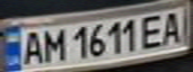1: (66, 24, 90, 61), (121, 16, 142, 53), (106, 19, 127, 55)
6: (87, 20, 109, 57)
A: (157, 9, 187, 46), (18, 28, 45, 66)
E: (136, 11, 169, 51)
M: (39, 26, 66, 63)
